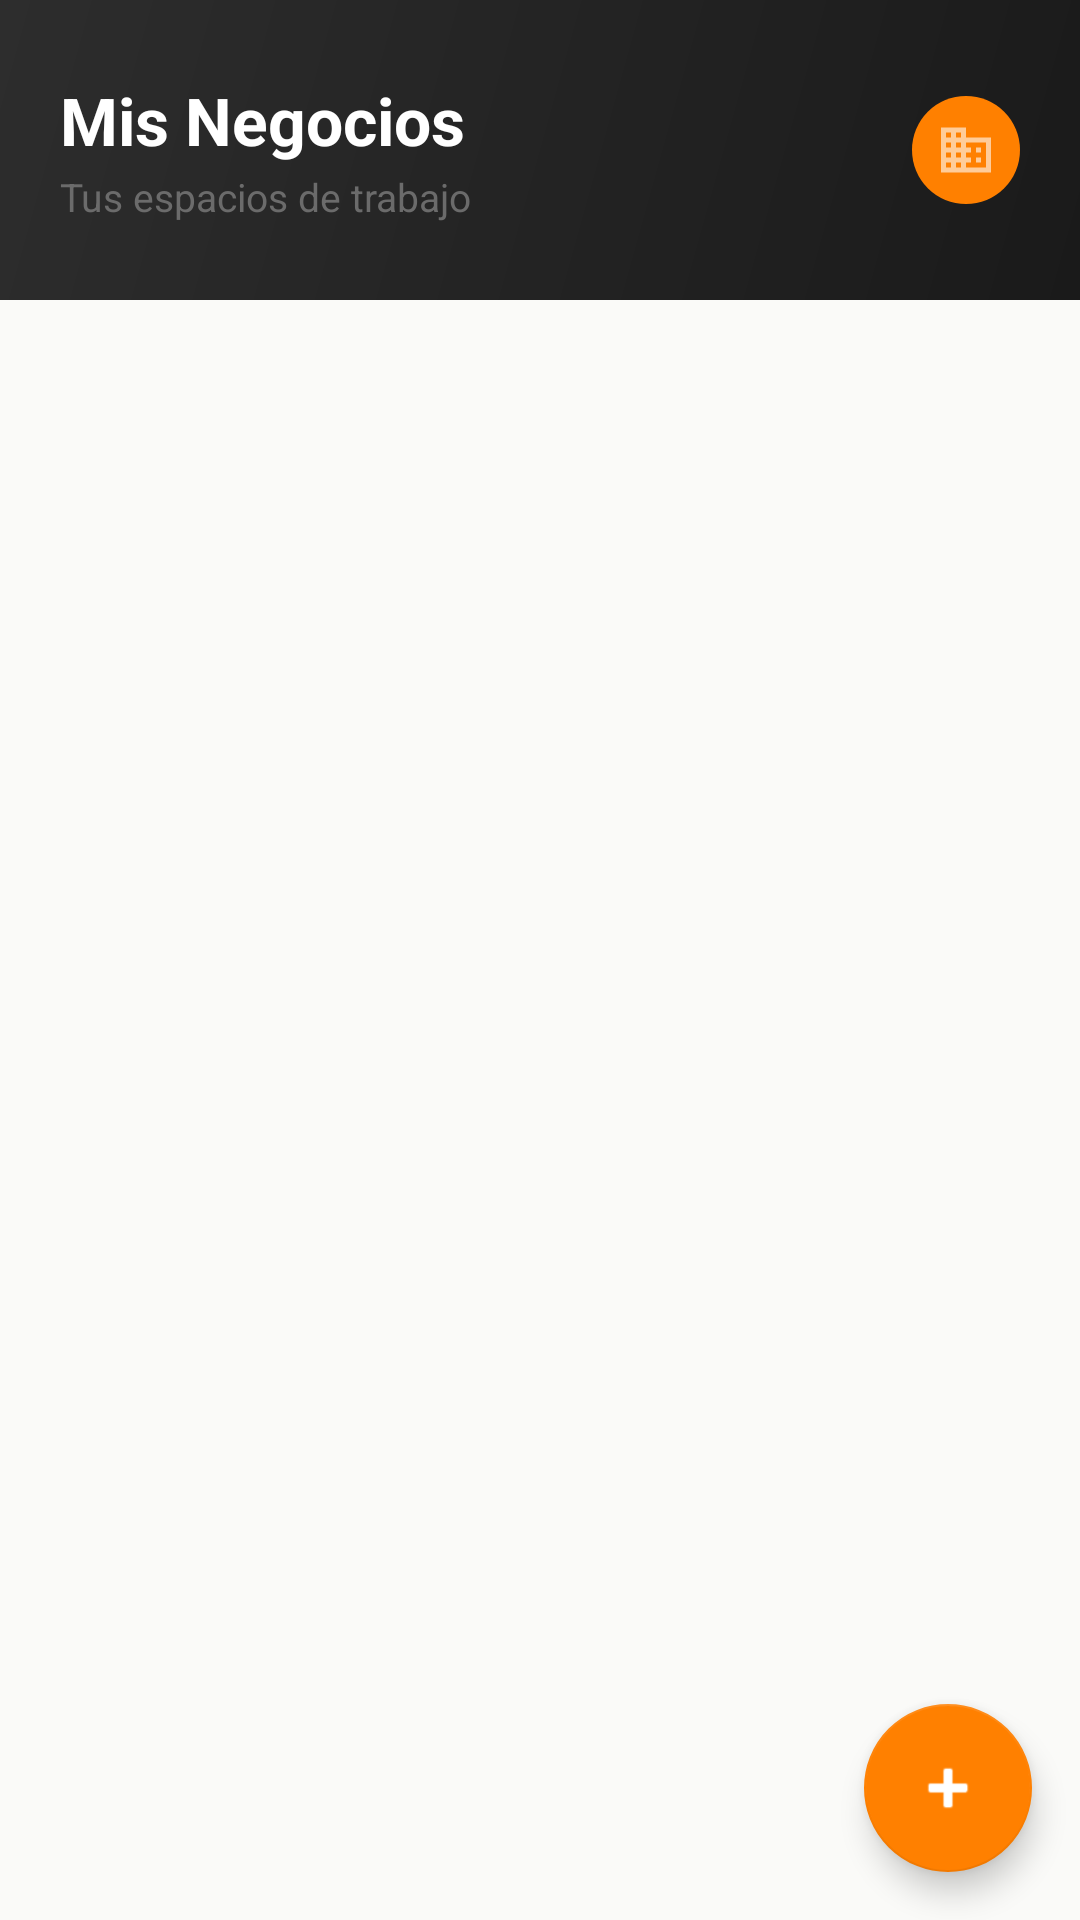

Where icons sit on this 1080 x 1920 app screen, as (x1, y1, x2, y2):
Crear negocio: (864, 1704, 1032, 1872)
Negocios: (912, 96, 1020, 204)
